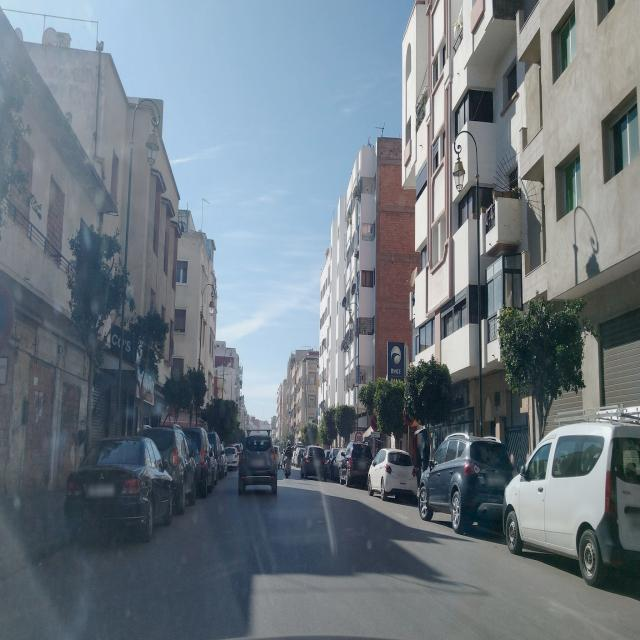bike: (282, 446, 293, 477)
car: (501, 404, 640, 588), (63, 435, 174, 545), (417, 430, 515, 534), (142, 424, 197, 514), (237, 432, 278, 496), (368, 447, 417, 500), (181, 425, 215, 496), (340, 441, 374, 487), (300, 445, 326, 480), (207, 431, 226, 478), (330, 448, 346, 482), (224, 444, 239, 468), (294, 446, 305, 467)
